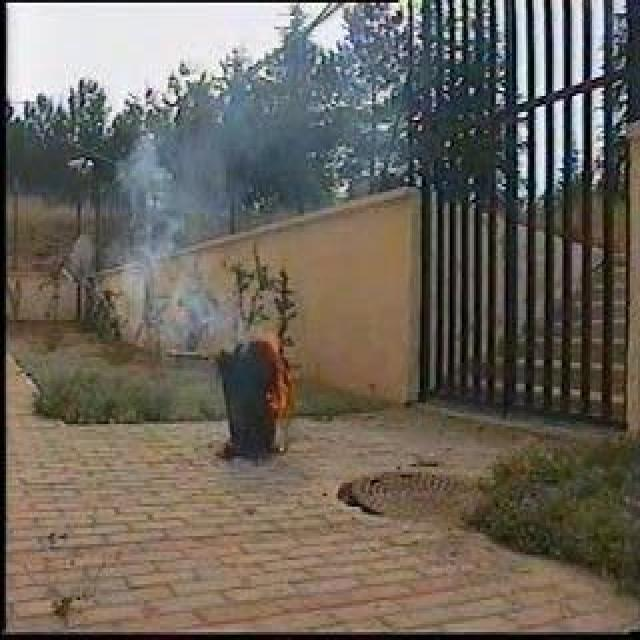Fire: (263, 340, 299, 420)
Smoke: (119, 148, 237, 332)
